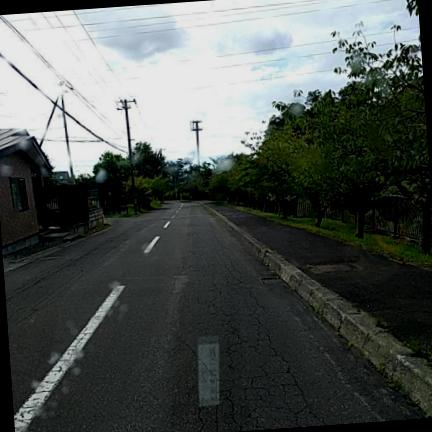Road: (4, 202, 421, 431)
